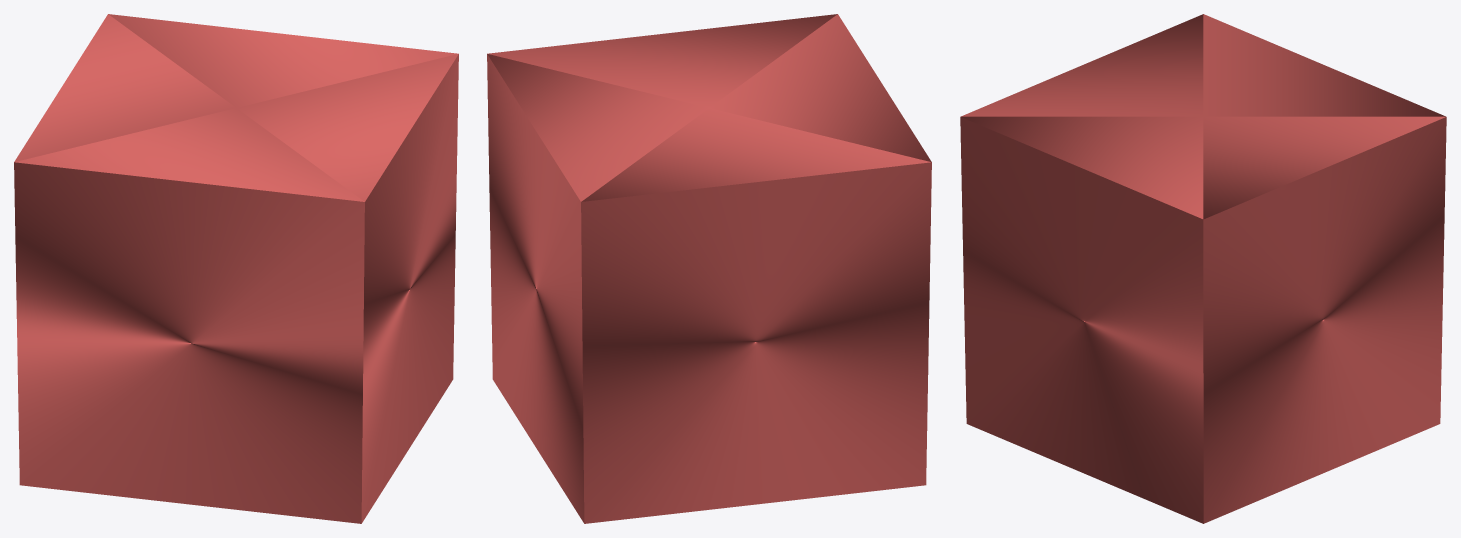
3 views of the same model, side by side, from view 1: azimuth 30°, elevation 25°; view 2: azimuth 150°, elevation 25°; view 3: azimuth 270°, elevation 25° (orthographic). The views are drawn at different scales.
Visible parts, largest first — view 1: cube; view 2: cube; view 3: cube.
Part boxes in pixels (bbox=[...]): cube: bbox=[14, 14, 458, 523]; cube: bbox=[487, 14, 931, 523]; cube: bbox=[960, 14, 1446, 523].
Bounding box in the file's own units: 39.18 × 27.29 × 39.18.
